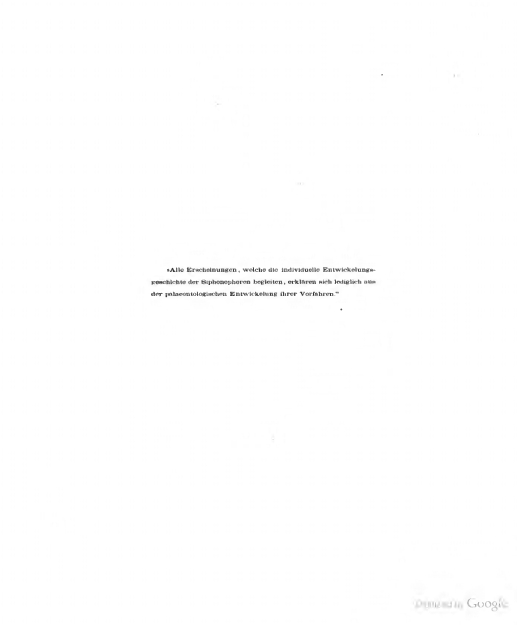MainZone: (135, 251, 388, 318)
NoiseZone: (395, 579, 517, 625)
